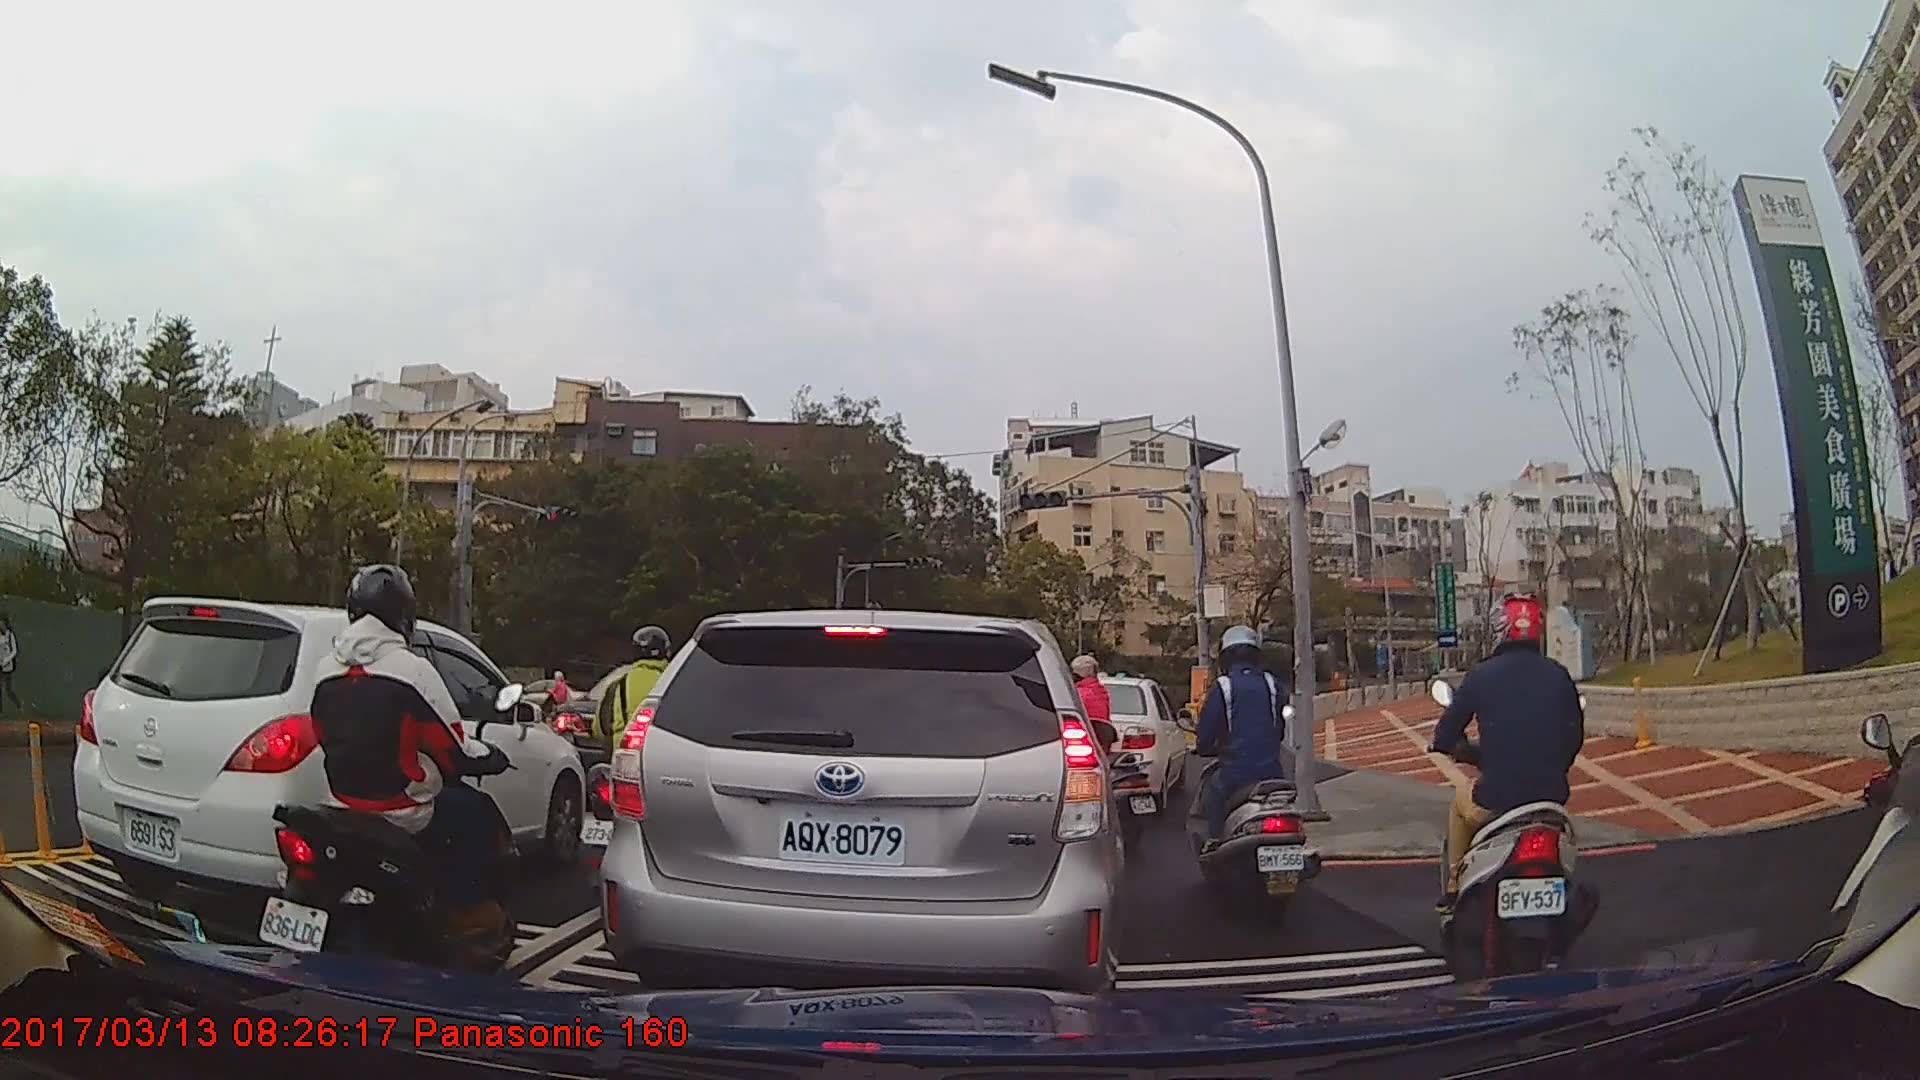pedestrian: (1, 607, 26, 725)
rider: (250, 562, 525, 996), (1426, 586, 1584, 1002), (582, 625, 721, 915), (1185, 619, 1318, 925)
vehicle: (596, 608, 1126, 1005), (71, 596, 587, 935), (1063, 676, 1186, 811)
